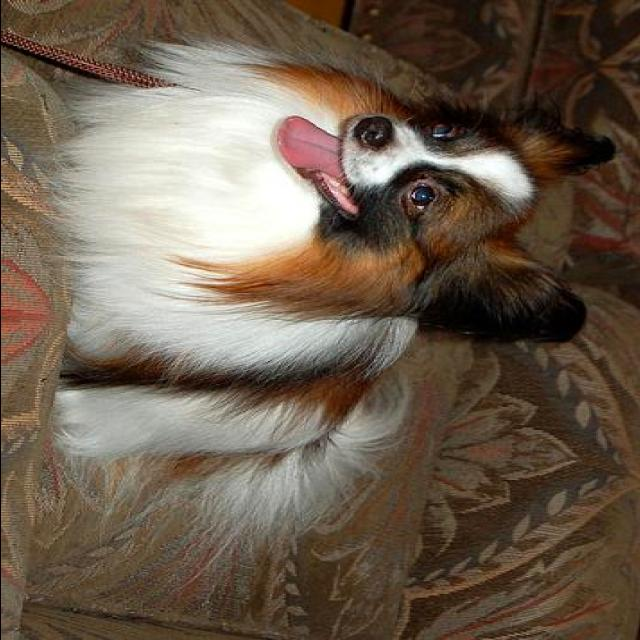papillon: (45, 33, 617, 570)
